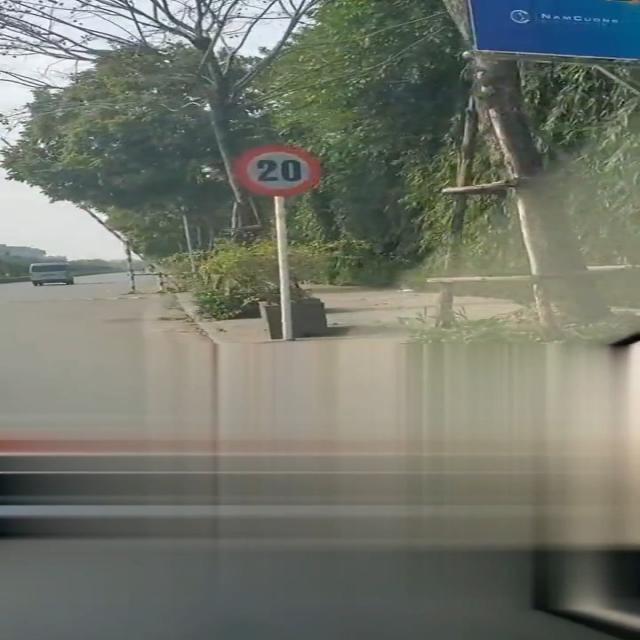127-toc-do-toi-da-20: (232, 144, 321, 197)
